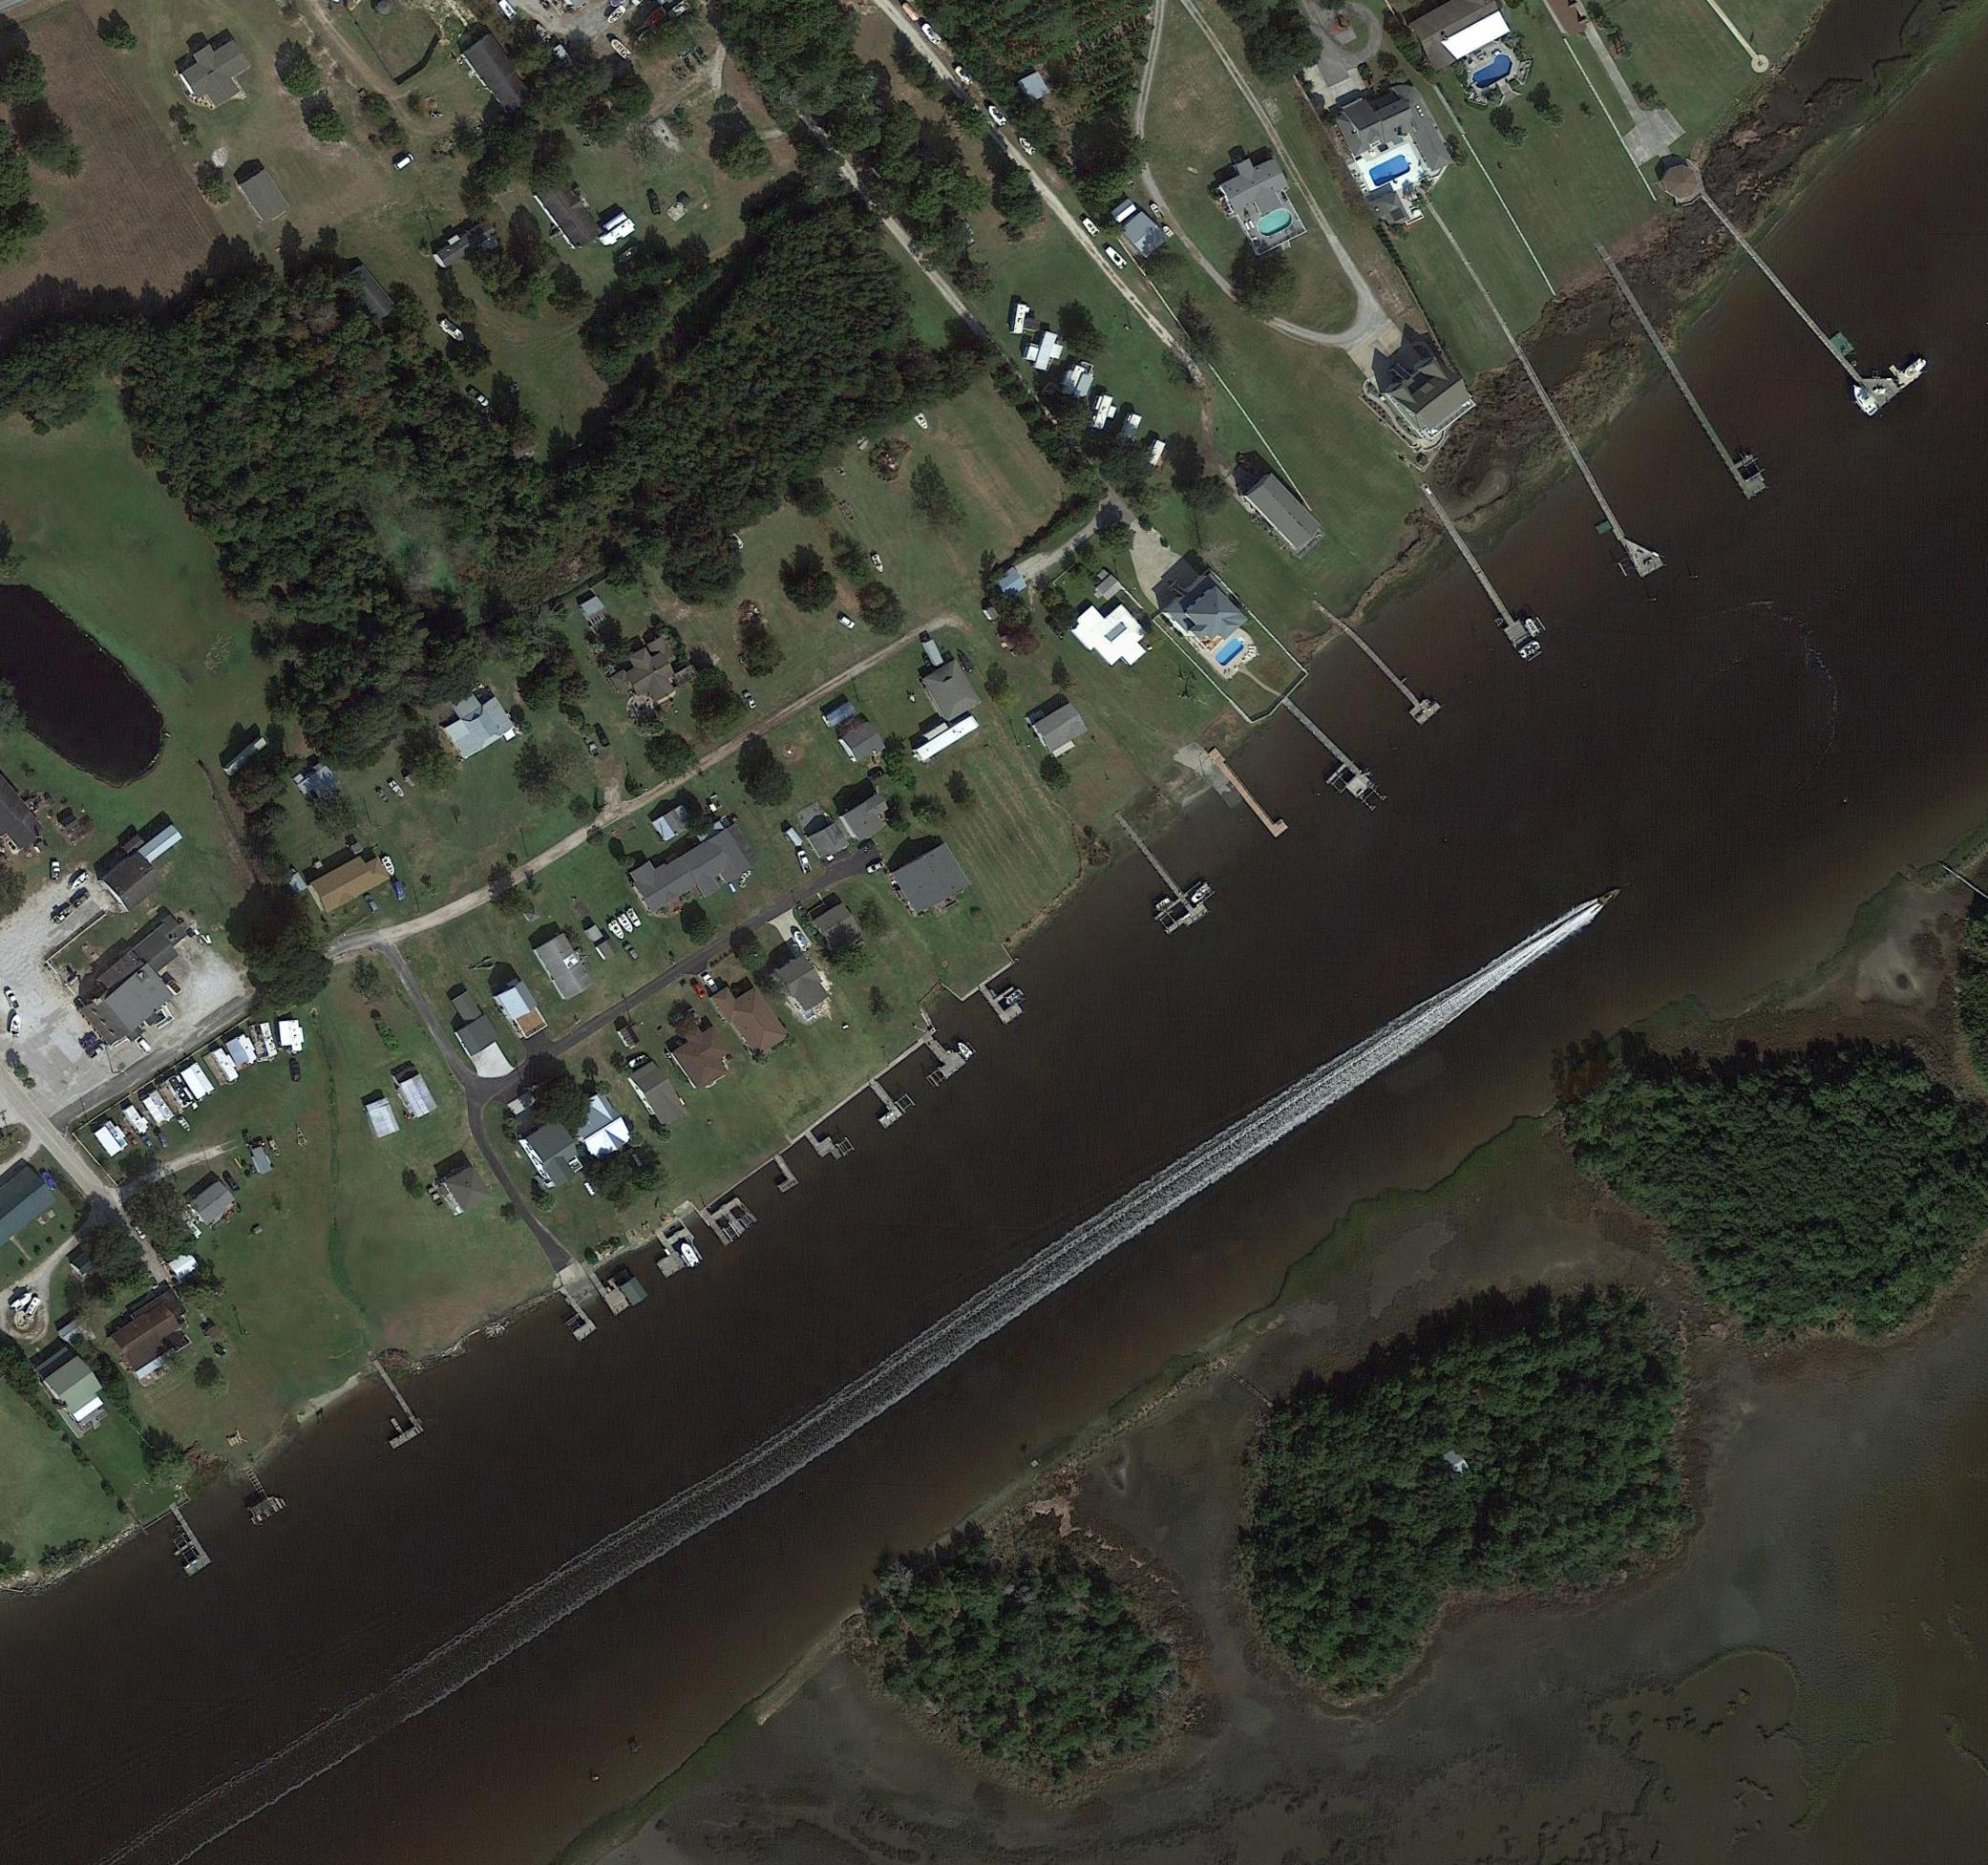harbor: (1715, 177, 1925, 410), (1623, 286, 1769, 500), (1553, 408, 1665, 578), (1424, 493, 1534, 650), (1104, 815, 1220, 943), (1334, 613, 1445, 726), (1271, 706, 1373, 808), (352, 1367, 426, 1451), (1218, 755, 1290, 840), (154, 1507, 212, 1579), (589, 1253, 650, 1318), (643, 1218, 708, 1280), (699, 1190, 761, 1248), (231, 1464, 288, 1527), (980, 973, 1031, 1027), (920, 1029, 969, 1081), (550, 1290, 598, 1344), (859, 1080, 905, 1131), (805, 1124, 843, 1169), (764, 1155, 799, 1195)
ship: (1846, 380, 1883, 419), (437, 316, 466, 345), (638, 4, 670, 32), (1899, 356, 1930, 382), (1101, 244, 1129, 272), (607, 35, 635, 61), (552, 44, 579, 70), (615, 242, 643, 266), (9, 1290, 35, 1315), (985, 103, 1010, 130), (1595, 885, 1625, 906), (1013, 133, 1038, 158), (952, 63, 976, 88), (920, 23, 945, 47), (678, 1241, 701, 1267), (67, 869, 91, 892), (605, 4, 629, 26), (624, 904, 645, 931), (1515, 638, 1541, 659), (1003, 987, 1026, 1010), (1078, 216, 1101, 238), (51, 903, 74, 925), (1190, 882, 1213, 904), (23, 1295, 44, 1320), (386, 776, 407, 801), (607, 918, 628, 941), (955, 1039, 976, 1060), (1147, 200, 1168, 221), (1522, 615, 1543, 636), (379, 854, 398, 876), (912, 408, 931, 431), (628, 1053, 650, 1071), (617, 913, 635, 936), (175, 1115, 195, 1134), (9, 1011, 23, 1038), (1161, 223, 1176, 240), (871, 554, 885, 573), (1154, 897, 1173, 911)
